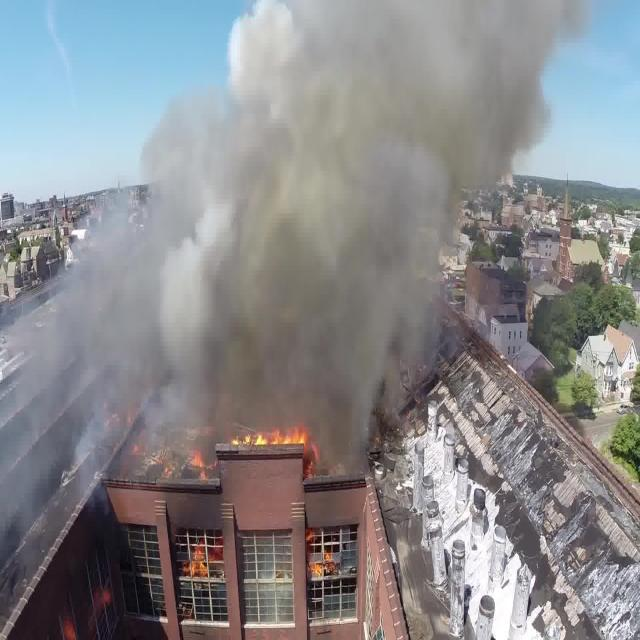Fire: (217, 421, 310, 451), (178, 537, 218, 582), (309, 530, 342, 581)
Smoke: (22, 0, 640, 479)
